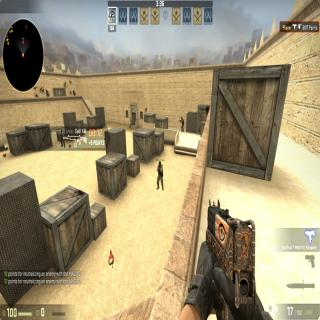CT-Body: (156, 159, 164, 190), (181, 116, 184, 131)
CT-Head: (158, 160, 160, 166), (180, 116, 182, 120)
